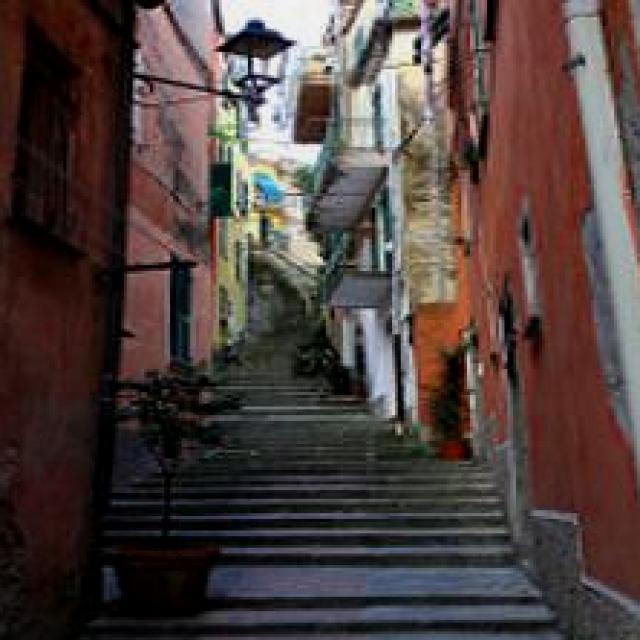upstair: (134, 382, 532, 609)
